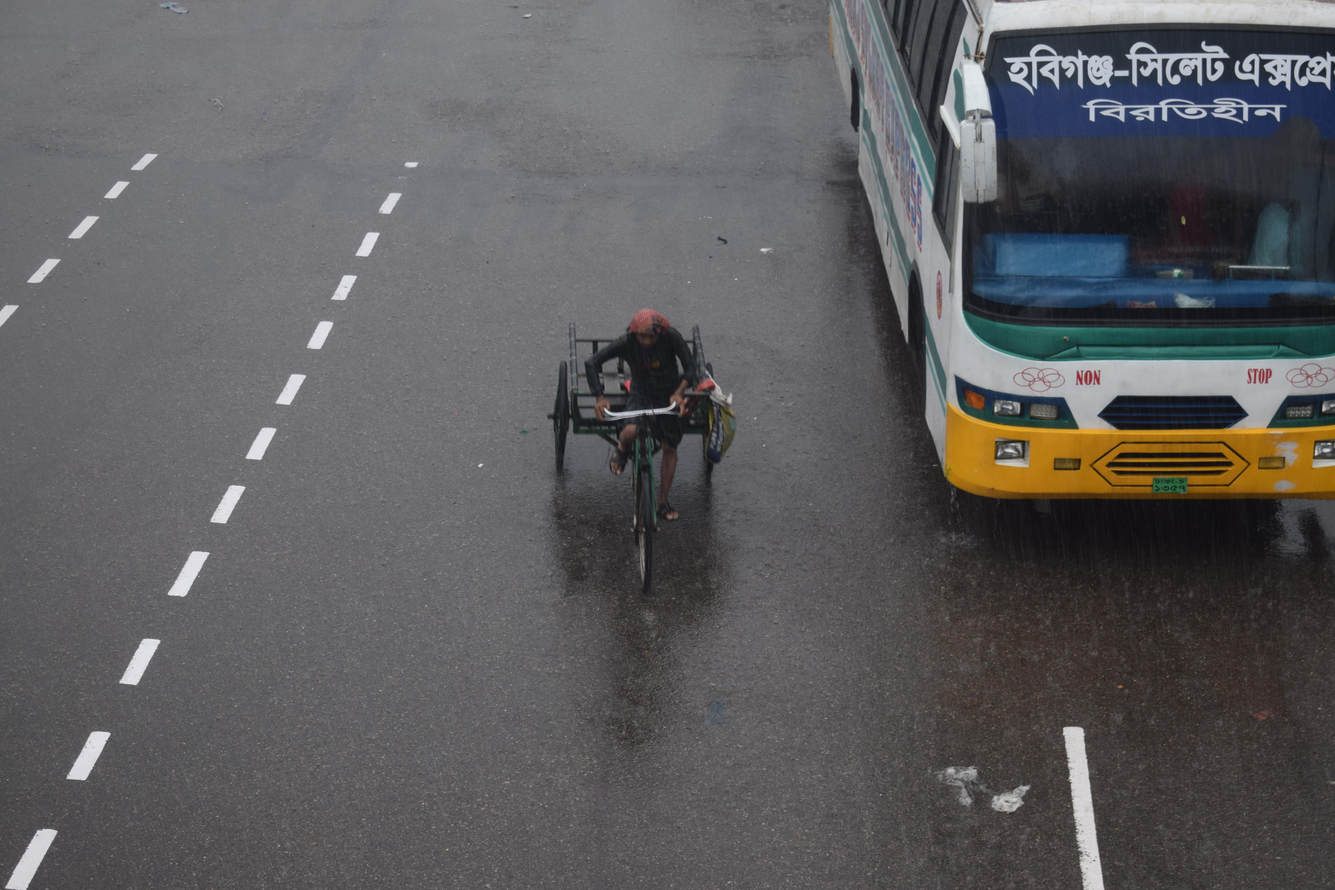Bus: (786, 0, 1335, 631)
Car: (487, 228, 812, 637)
